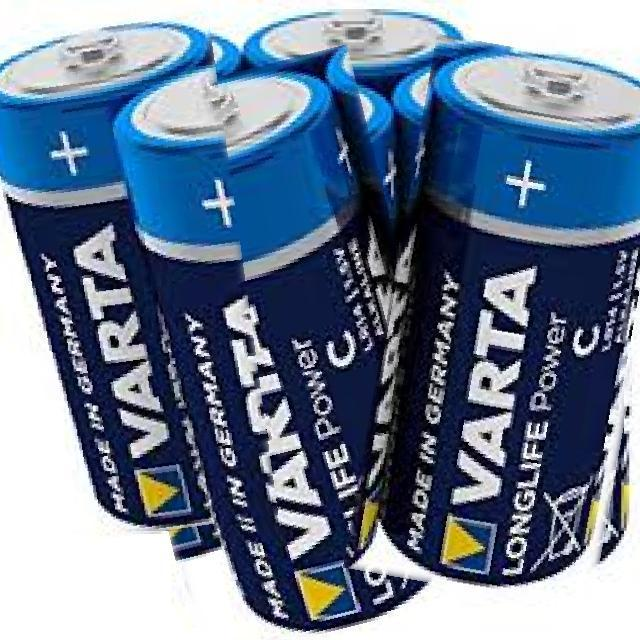Battery: (112, 66, 428, 639), (378, 50, 639, 594), (2, 17, 211, 530), (222, 70, 396, 564), (242, 7, 469, 82)
